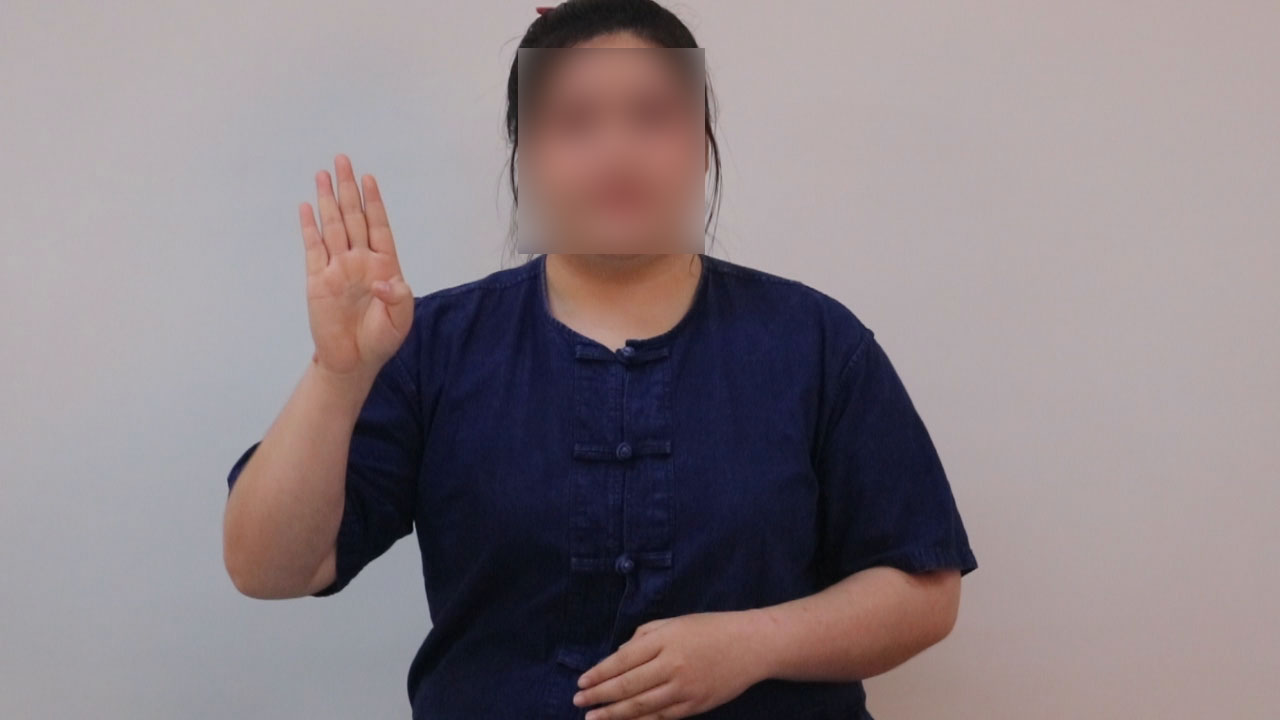bor: (278, 139, 430, 404)
